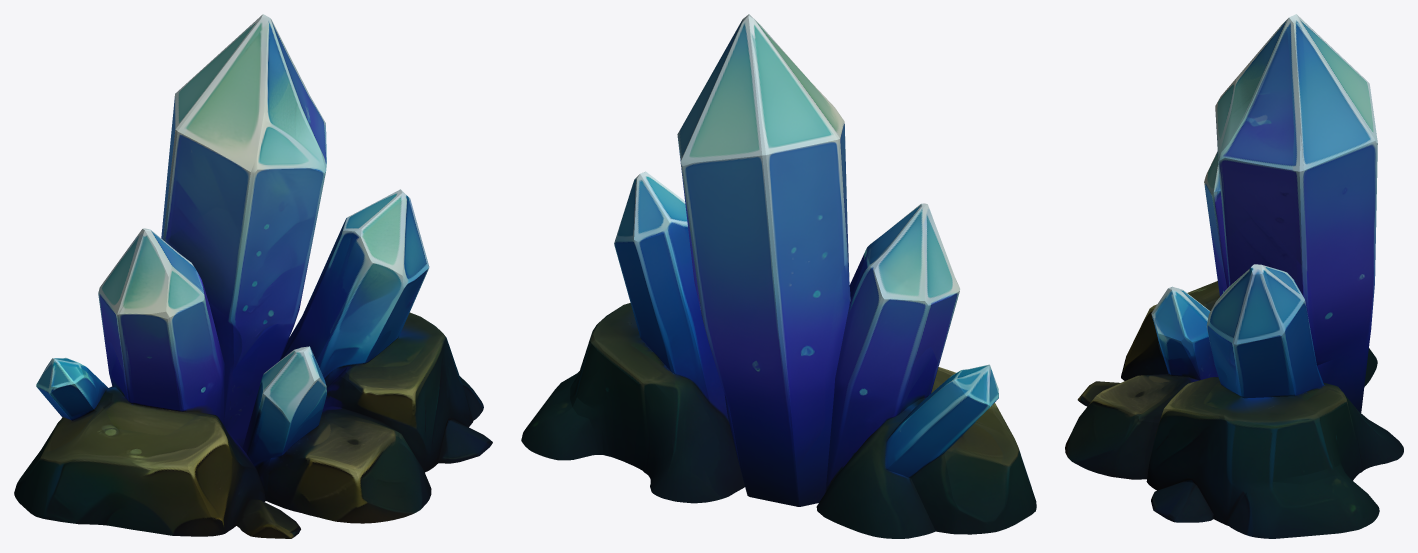
File: SM_Ore01.fbx
3 views of the same model, side by side, from view 1: azimuth 30°, elevation 25°; view 2: azimuth 150°, elevation 25°; view 3: azimuth 270°, elevation 25° (orthographic). The views are drawn at different scales.
Visible parts, largest first — view 1: Ore01; view 2: Ore01; view 3: Ore01.
Boxes of the visible parts, x1,y1,x2,y2 form: Ore01: (14, 14, 492, 538); Ore01: (521, 14, 1036, 538); Ore01: (1065, 14, 1403, 538).
Size of the model in its own units: 118 by 106 by 76.57.
Materials: 1 (1 with a texture image).
